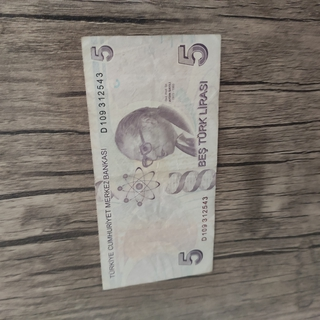5TLBack: (79, 32, 222, 291)
